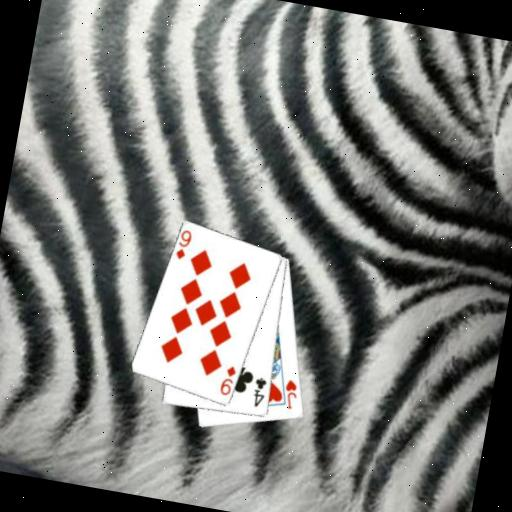4C: (248, 374, 269, 410)
9D: (216, 362, 239, 398), (172, 225, 194, 262)
JH: (278, 375, 301, 411)
